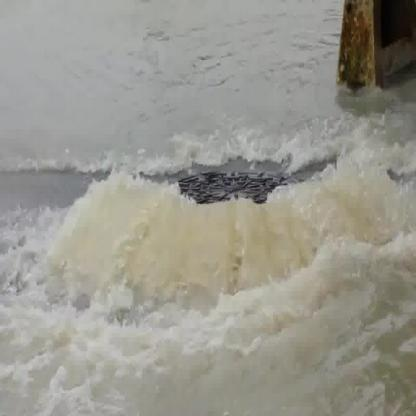drainage overflow-repair-: (44, 132, 376, 336)
